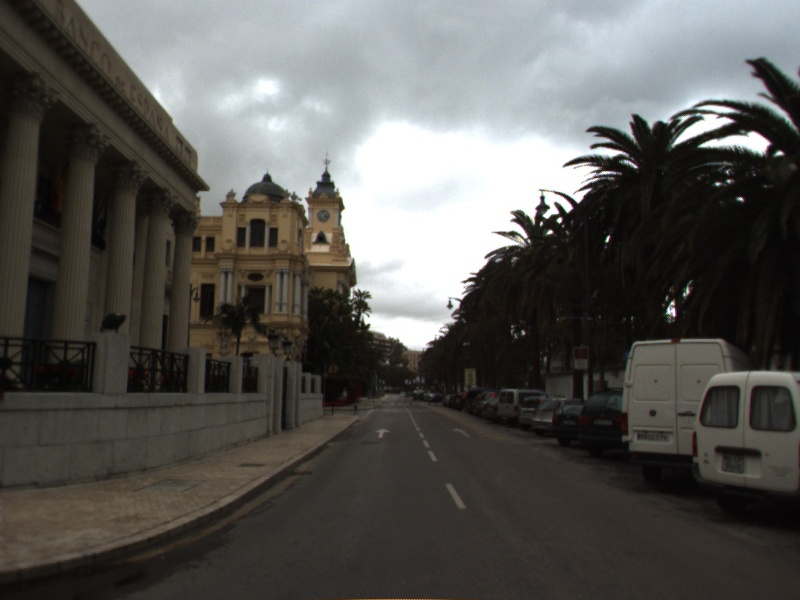STRAIGHT: (450, 425, 473, 440), (372, 426, 393, 440)
